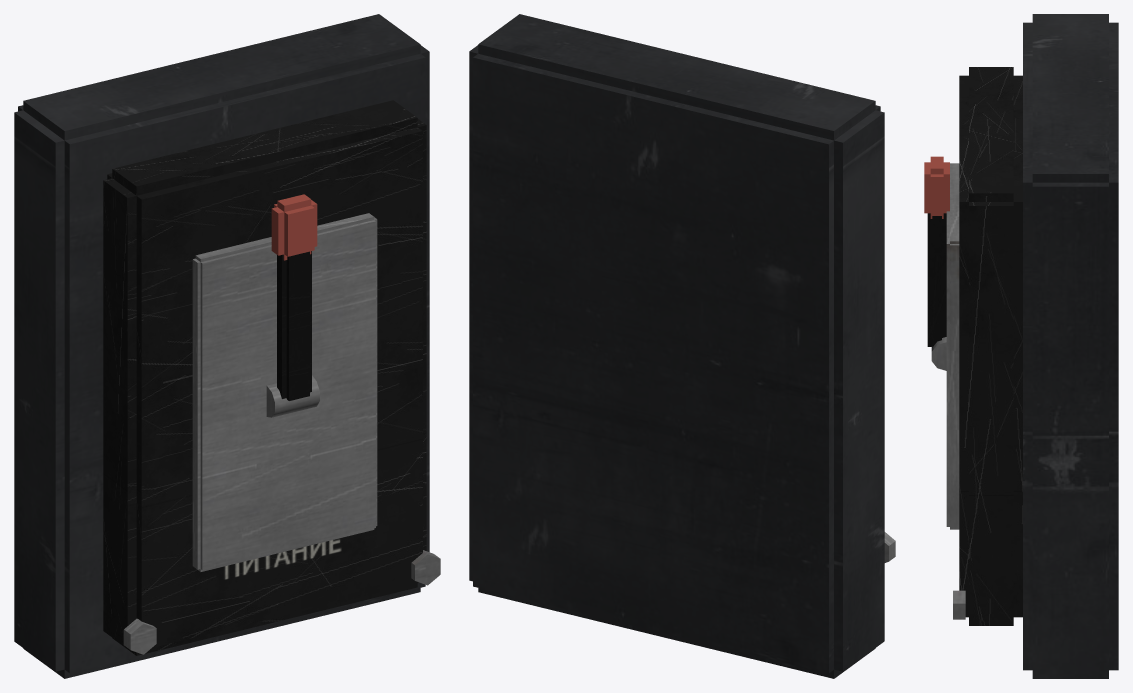
The model's file is wall_breaker.gltf.
The picture shows the model from 3 angles, left to right: view 1: azimuth 30°, elevation 25°; view 2: azimuth 150°, elevation 25°; view 3: azimuth 270°, elevation 25°; orthographic projection. The views are drawn at different scales.
Parts seen in each view (by area): view 1: Body, Handle; view 2: Body; view 3: Body, Handle.
Part boxes in pixels (box(x1,y1,x2,y2)): Body: box(14, 14, 440, 678); Handle: box(266, 194, 319, 417); Body: box(469, 14, 895, 678); Body: box(946, 14, 1118, 678); Handle: box(924, 156, 949, 370).
Bounding box in the file's own units: 0.25 × 0.35 × 0.122.
Materials: 6 (5 with a texture image).
